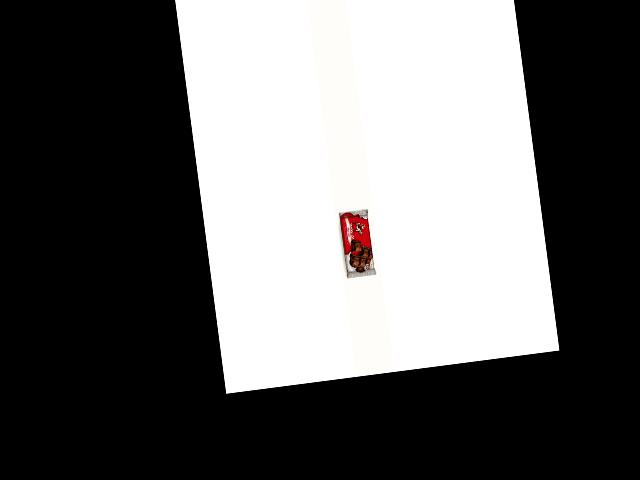chocolate: (333, 207, 378, 280)
